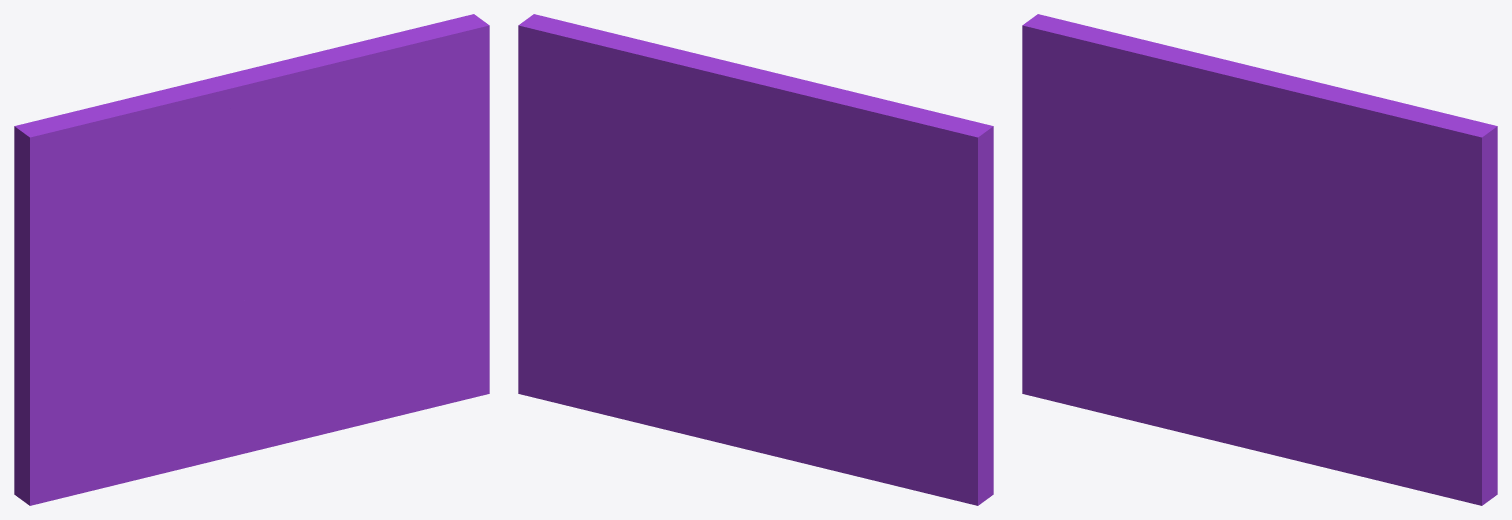
The model's file is Barrier_197_chunks.fbx.
3 views of the same model, side by side, from view 1: azimuth 30°, elevation 25°; view 2: azimuth 150°, elevation 25°; view 3: azimuth 330°, elevation 25° (orthographic).
Visible parts, largest first — view 1: Barrier_197_2, Barrier_197_1, Barrier_197_5, Barrier_197_0, Barrier_197_6, Barrier_197_4, Barrier_197_3; view 2: Barrier_197_1, Barrier_197_2, Barrier_197_5, Barrier_197_6, Barrier_197_4, Barrier_197_0; view 3: Barrier_197_2, Barrier_197_1, Barrier_197_5, Barrier_197_0, Barrier_197_6, Barrier_197_4, Barrier_197_3.
Boxes of the visible parts, x1,y1,x2,y2 form: Barrier_197_2: [225, 14, 489, 299]; Barrier_197_1: [14, 74, 246, 484]; Barrier_197_5: [277, 271, 489, 425]; Barrier_197_0: [15, 223, 272, 505]; Barrier_197_6: [14, 316, 231, 498]; Barrier_197_4: [139, 399, 358, 479]; Barrier_197_3: [223, 270, 286, 404]; Barrier_197_1: [741, 78, 993, 494]; Barrier_197_2: [518, 14, 794, 292]; Barrier_197_5: [518, 263, 764, 429]; Barrier_197_6: [762, 284, 982, 505]; Barrier_197_4: [668, 394, 859, 476]; Barrier_197_0: [978, 382, 993, 501]; Barrier_197_2: [1220, 65, 1497, 410]; Barrier_197_1: [1022, 14, 1248, 280]; Barrier_197_5: [1269, 279, 1497, 505]; Barrier_197_0: [1022, 216, 1265, 401]; Barrier_197_6: [1054, 301, 1223, 420]; Barrier_197_4: [1131, 387, 1350, 473]; Barrier_197_3: [1216, 277, 1278, 411].
Bounding box in the file's own units: 376 × 288 × 22.1.
